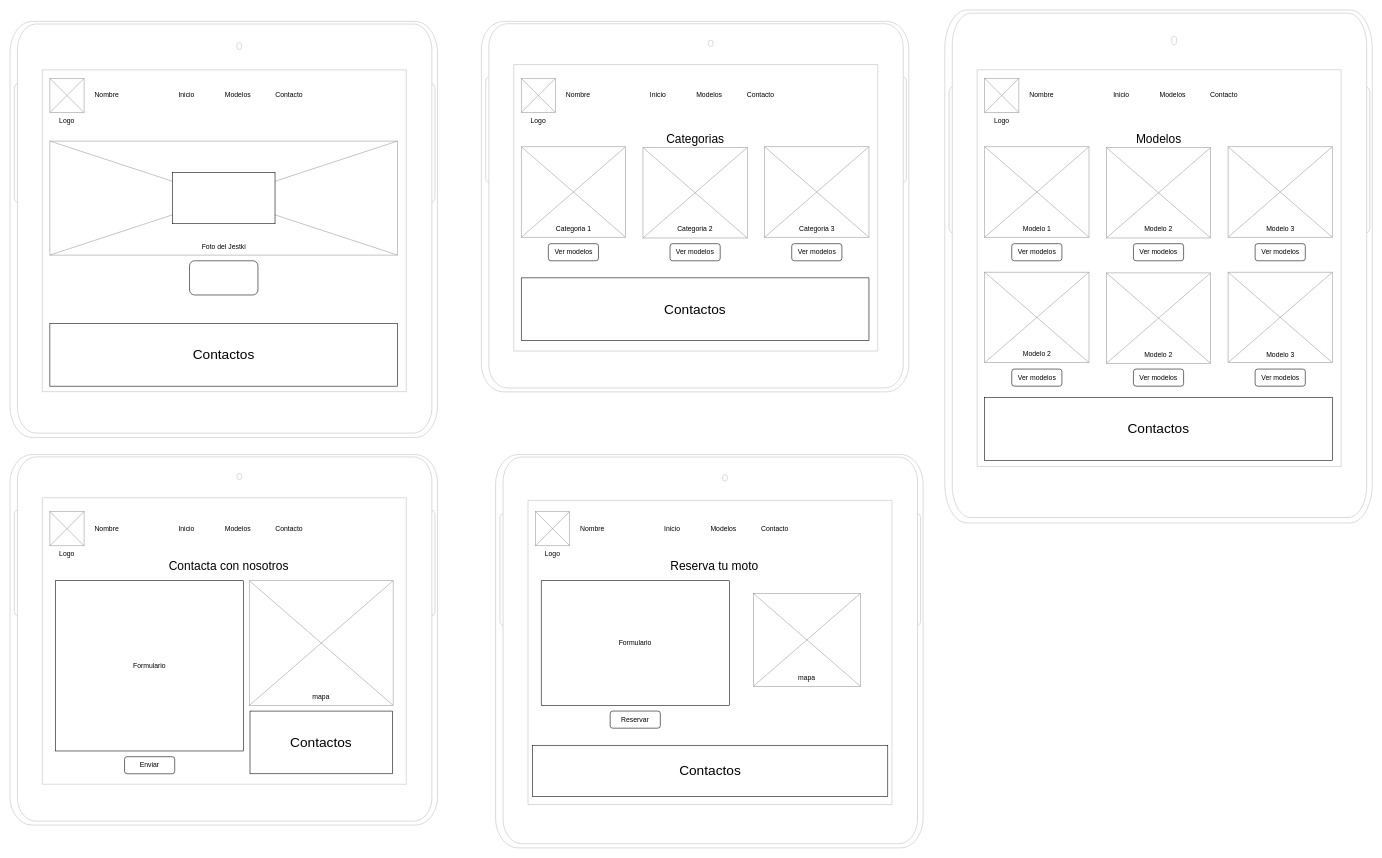
Some shapes in this 1382 by 858 pixel diagram are drawn without their labels. Here are the shapes that lost their labels. From the top down, the centre of each, then its label:
At point 223,198: "Eslogan".
At point 223,277: "Ver categorias".
